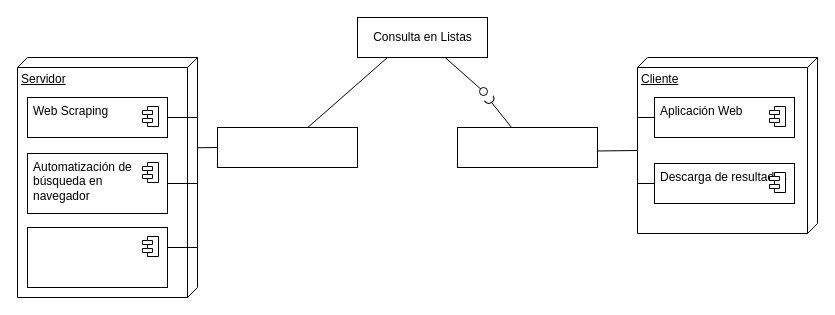
Some shapes in this 835 by 315 pixel diagram are drawn without their labels. Each missing label, with the centre of its shape:
"Actualización y almacenamiento de las Listas" belongs at [97,257].
"Back-end" belongs at [287,147].
"Front-end" belongs at [527,147].
